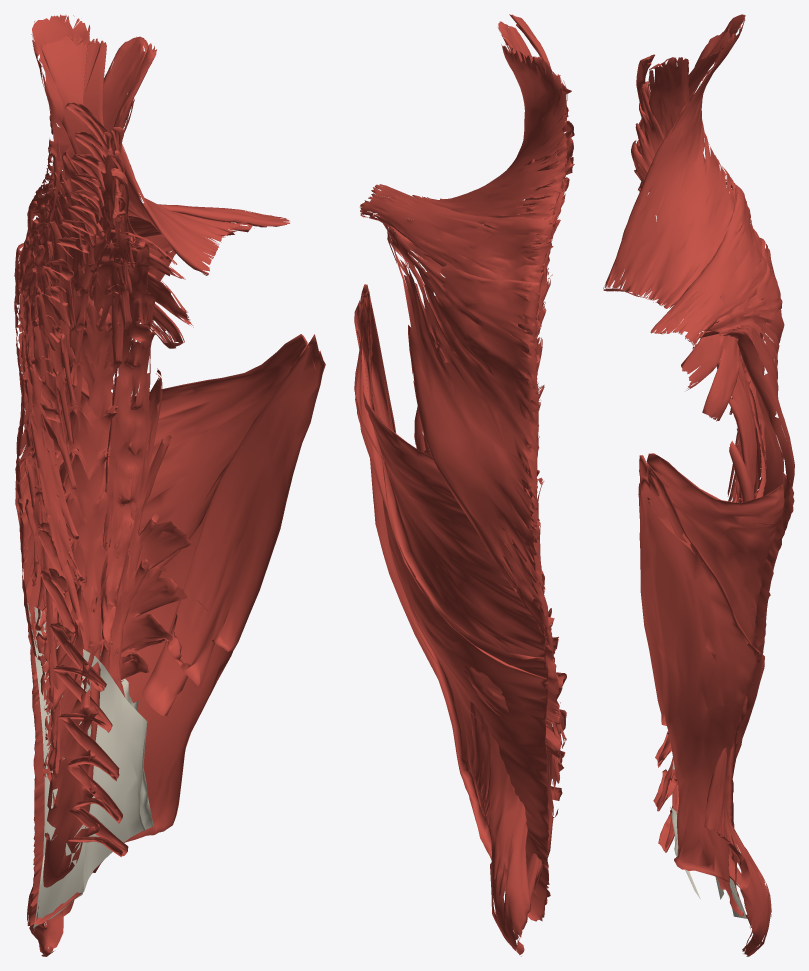
File: backm.glb
3 renders of one model, left to right at view 1: azimuth 30°, elevation 25°; view 2: azimuth 150°, elevation 25°; view 3: azimuth 270°, elevation 25°, orthographic. The views are drawn at different scales.
Visible parts, largest first — view 1: left latissimus dorsi, left longissimus thoracis, left iliocostalis thoracis, left semispinalis thoracis, descending part of left trapezius, left serratus posterior inferior, left middle layer of thoracolumbar fascia, left iliocostalis lumborum, ascending part of left trapezius, left multifidus lumborum, left semispinalis capitis, left multifidus thoracis (+14 smaller); view 2: left latissimus dorsi, ascending part of left trapezius, transverse part of left trapezius, descending part of left trapezius, left iliocostalis lumborum, left serratus posterior inferior, left splenius capitis, left longissimus thoracis, left spinalis thoracis, left multifidus lumborum, left semispinalis thoracis; view 3: left latissimus dorsi, descending part of left trapezius, ascending part of left trapezius, transverse part of left trapezius, left iliocostalis lumborum, left serratus posterior superior, left splenius capitis, left iliocostalis thoracis, left levator scapulae, left multifidus lumborum, left rhomboid major, left semispinalis capitis (+2 smaller).
Part boxes in pixels (x1,y1,x2,y2): left latissimus dorsi: (15,334,325,925); left longissimus thoracis: (30,228,135,907); left iliocostalis thoracis: (100,240,155,645); left semispinalis thoracis: (28,237,85,623); descending part of left trapezius: (30,14,240,275); left serratus posterior inferior: (35,521,191,782); left middle layer of thoracolumbar fascia: (83,649,146,891); left iliocostalis lumborum: (27,368,171,956); ascending part of left trapezius: (14,221,254,660); left multifidus lumborum: (50,625,128,856); left semispinalis capitis: (41,35,106,223); left multifidus thoracis: (26,220,95,642); left latissimus dorsi: (354,284,550,921); ascending part of left trapezius: (383,223,555,651); transverse part of left trapezius: (360,184,556,333); descending part of left trapezius: (412,44,567,234); left iliocostalis lumborum: (414,406,530,956); left serratus posterior inferior: (436,564,561,758); left splenius capitis: (498,21,565,353); left longissimus thoracis: (519,205,561,912); left spinalis thoracis: (524,320,566,748); left multifidus lumborum: (548,608,566,800); left semispinalis thoracis: (517,245,553,595); left latissimus dorsi: (638,453,794,916); descending part of left trapezius: (603,14,745,308); ascending part of left trapezius: (685,238,794,508); transverse part of left trapezius: (650,179,772,349); left iliocostalis lumborum: (704,441,771,956); left serratus posterior superior: (681,313,739,421); left splenius capitis: (647,57,704,165); left iliocostalis thoracis: (716,355,757,499); left levator scapulae: (631,87,720,297); left multifidus lumborum: (653,731,678,852); left rhomboid major: (737,230,766,499); left semispinalis capitis: (662,32,730,134).
Size of the model in its own units: 0.1885 by 0.6761 by 0.1251.
